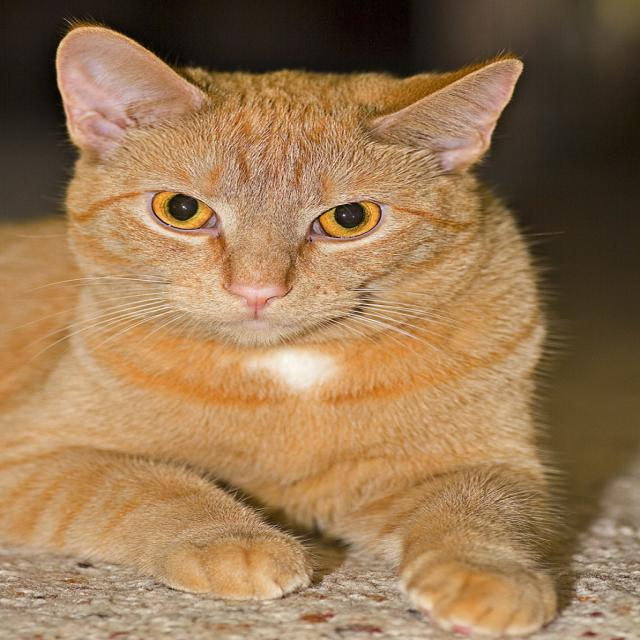Cat: (0, 13, 578, 635)
